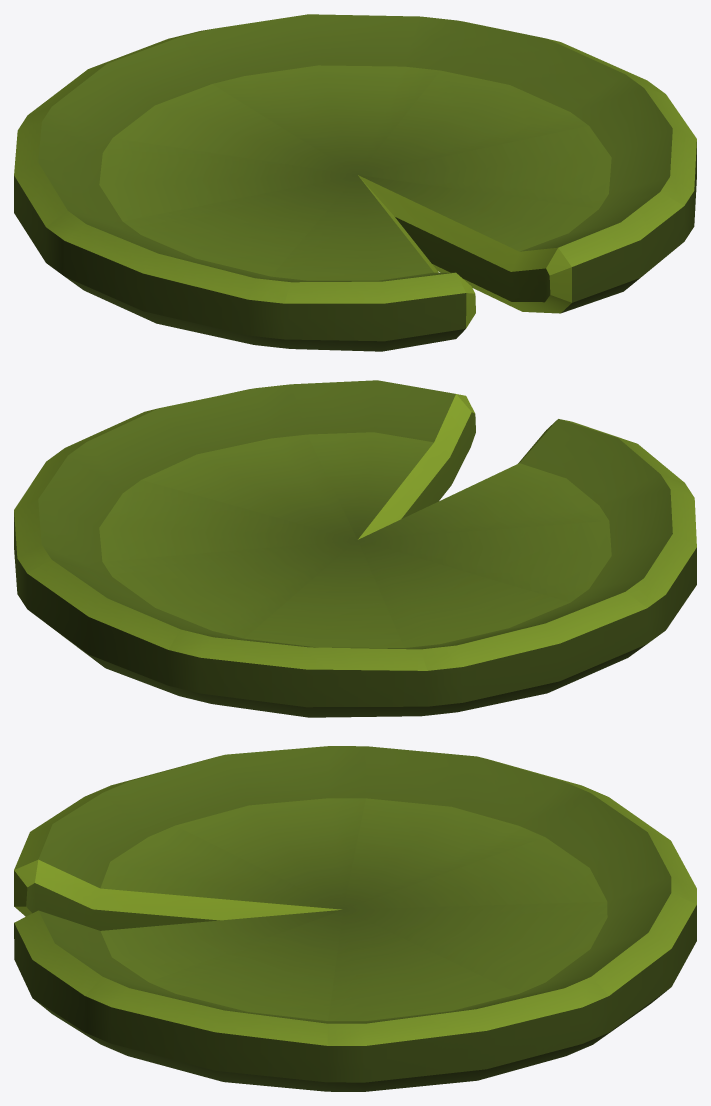
The model's file is lotus_leaf_big_LOD_group.fbx.
3 renders of one model, top to bottom at view 1: azimuth 30°, elevation 25°; view 2: azimuth 150°, elevation 25°; view 3: azimuth 270°, elevation 25°, orthographic.
Parts seen in each view (by area): view 1: lotus_leaf_big_LOD0; view 2: lotus_leaf_big_LOD0; view 3: lotus_leaf_big_LOD0.
Boxes of the visible parts, box(x1,y1,x2,y2) form: lotus_leaf_big_LOD0: box(14, 14, 696, 351); lotus_leaf_big_LOD0: box(14, 380, 696, 717); lotus_leaf_big_LOD0: box(14, 746, 696, 1091).
Size of what is drawn, in the model's own units: 189 by 26.16 by 182.
1 material, 1 textured.
